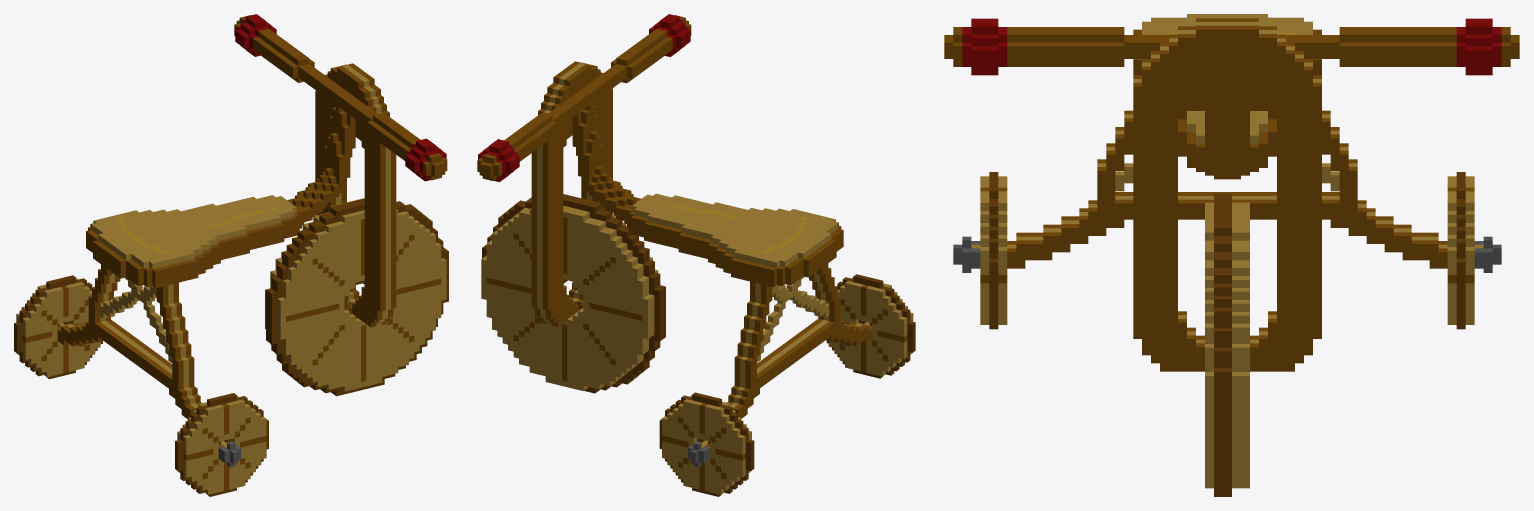
File: tricycle.obj
3 views of the same model, side by side, from view 1: azimuth 30°, elevation 25°; view 2: azimuth 150°, elevation 25°; view 3: azimuth 270°, elevation 25° (orthographic). The views are drawn at different scales.
Size of the model in its own units: 65 by 56 by 64.
Materials: 1 (1 with a texture image).
